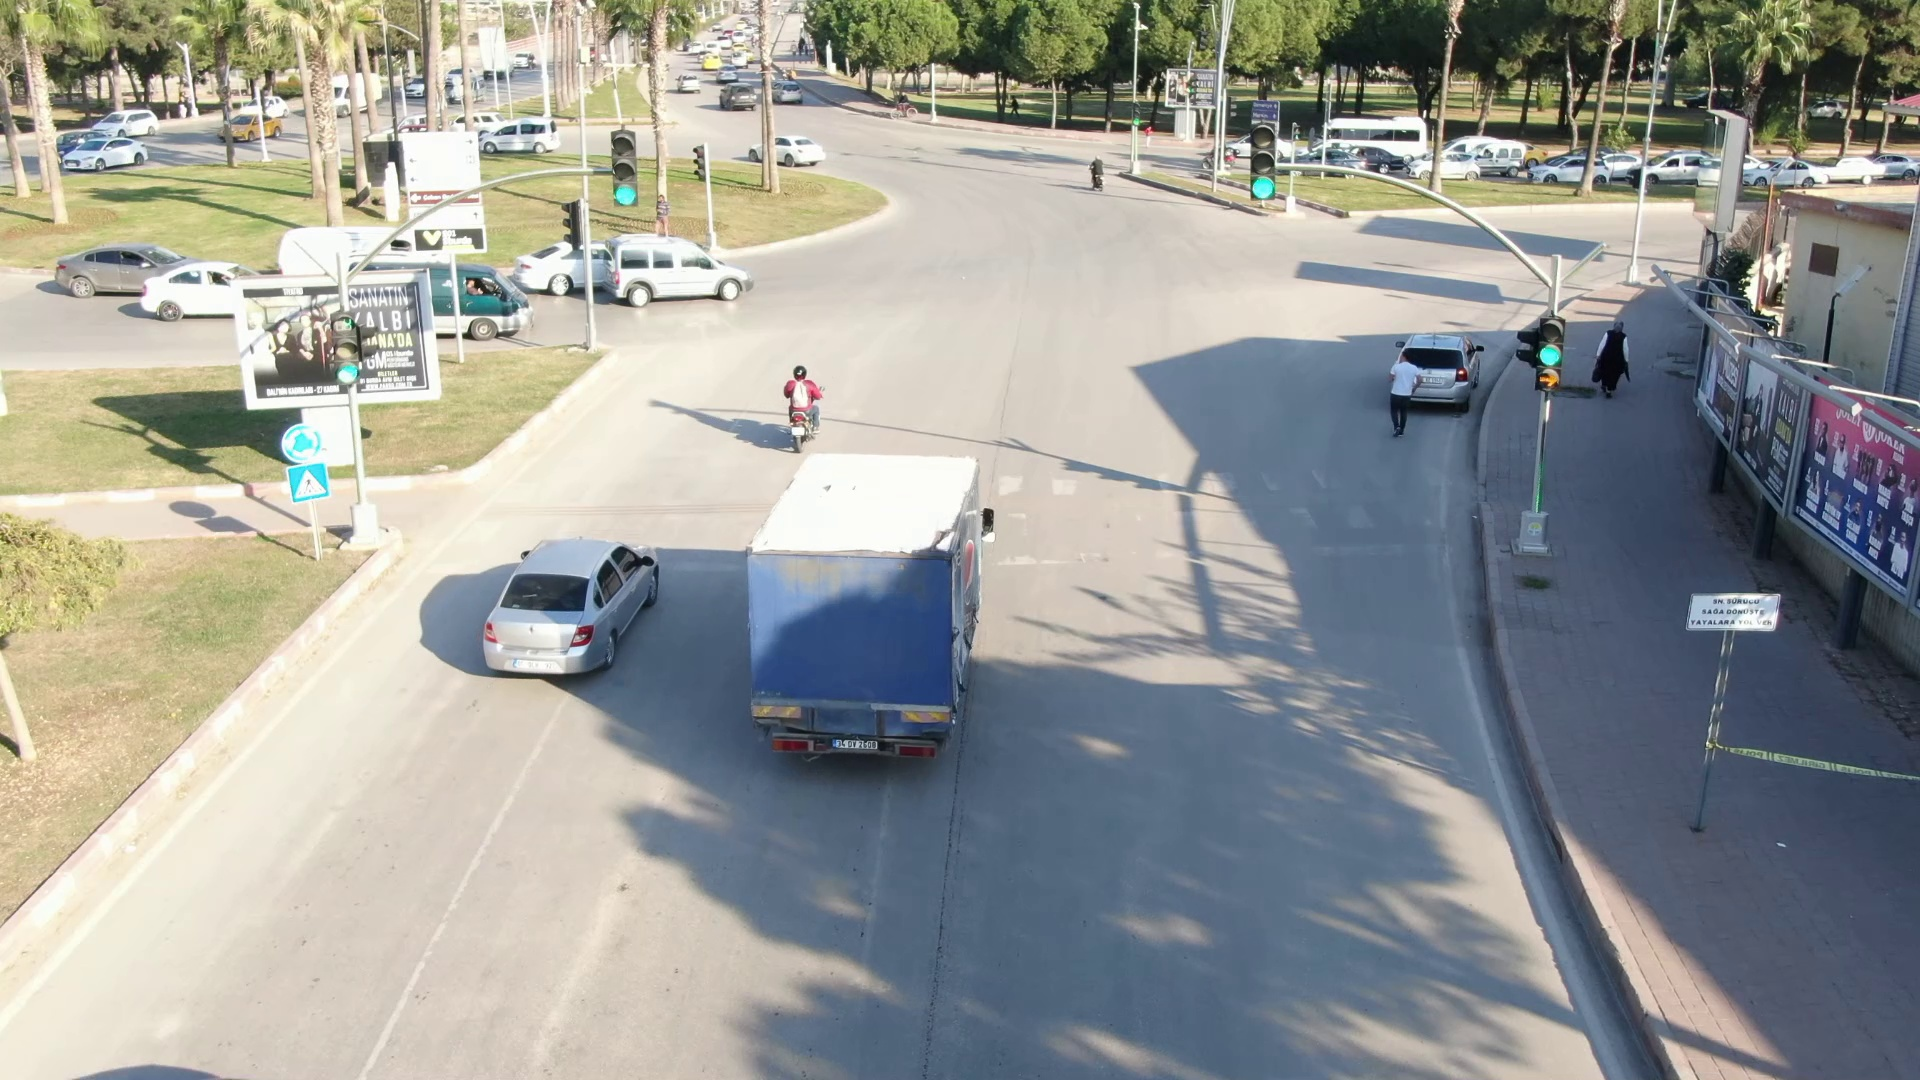car: (473, 512, 670, 686), (48, 235, 221, 307), (599, 234, 755, 312), (433, 256, 546, 347), (1420, 319, 1491, 421), (59, 133, 155, 174), (741, 131, 836, 172), (714, 77, 758, 115), (673, 67, 706, 99)
person: (1581, 311, 1649, 403), (1379, 342, 1424, 436), (773, 352, 828, 416)
